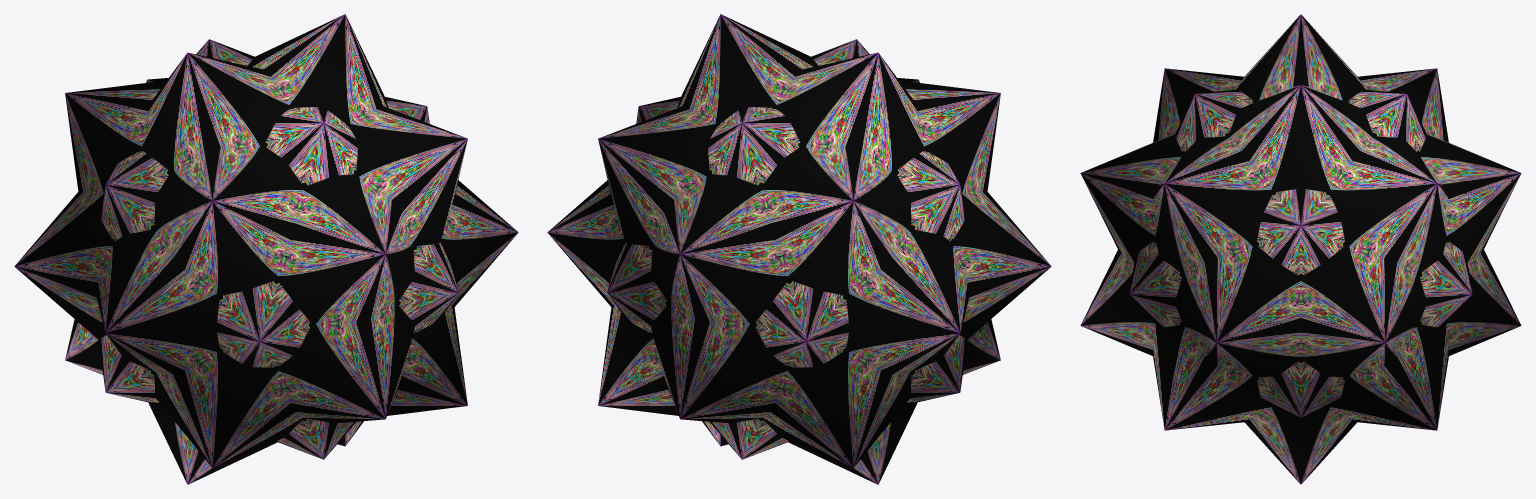
File: 5MedialIcosacronicHexecontahedron.gltf
3 renders of one model, left to right at view 1: azimuth 30°, elevation 25°; view 2: azimuth 150°, elevation 25°; view 3: azimuth 270°, elevation 25°, orthographic. The views are drawn at different scales.
Parts seen in each view (by area): view 1: MedialIcosacronicHexecontahedron9; view 2: MedialIcosacronicHexecontahedron9; view 3: MedialIcosacronicHexecontahedron9.
Part boxes in pixels (x1,y1,x2,y2): MedialIcosacronicHexecontahedron9: (14,14,518,484); MedialIcosacronicHexecontahedron9: (547,14,1051,484); MedialIcosacronicHexecontahedron9: (1080,14,1521,484).
Bounding box in the file's own units: 3.24 × 3.24 × 3.24.
Materials: 1 (1 with a texture image).
